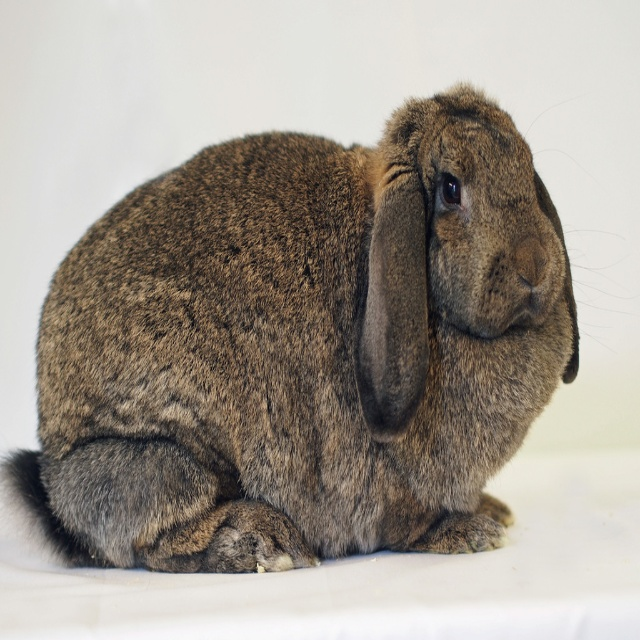Rabbit: (0, 77, 640, 572)
